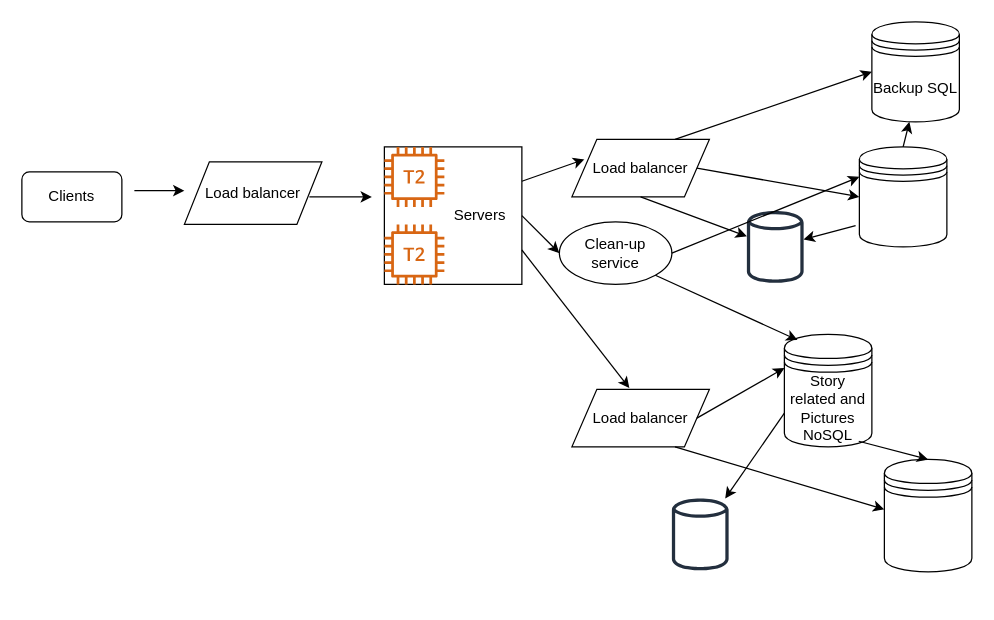
The diagram is 994 pixels wide and 620 high, and some of its shapes have lost their labels. The shapes that lost their labels are listed below. From the top down, each one's box as (x1, y1, x2, y2) in pixels, then its label:
(858, 146, 947, 247): Entire data SQL
(746, 209, 803, 284): SQL data cache LRU
(671, 496, 728, 571): NoSQL data cache LRU
(883, 458, 972, 572): Backup NoSQL
